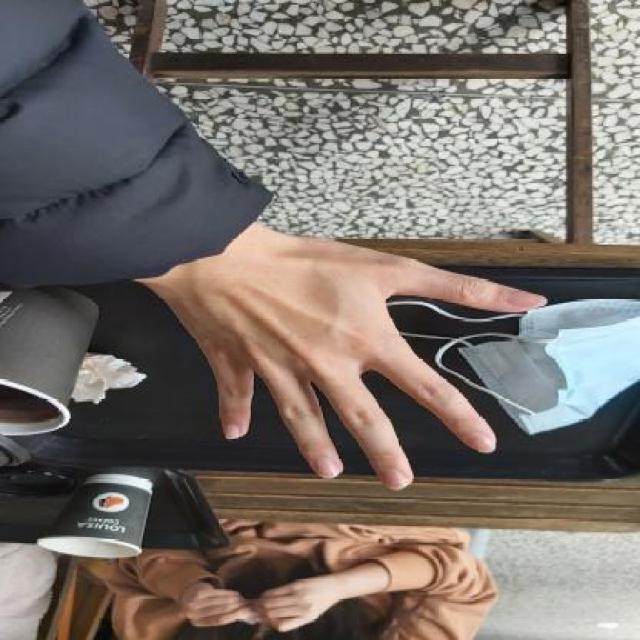bare_hand: (150, 226, 555, 503)
